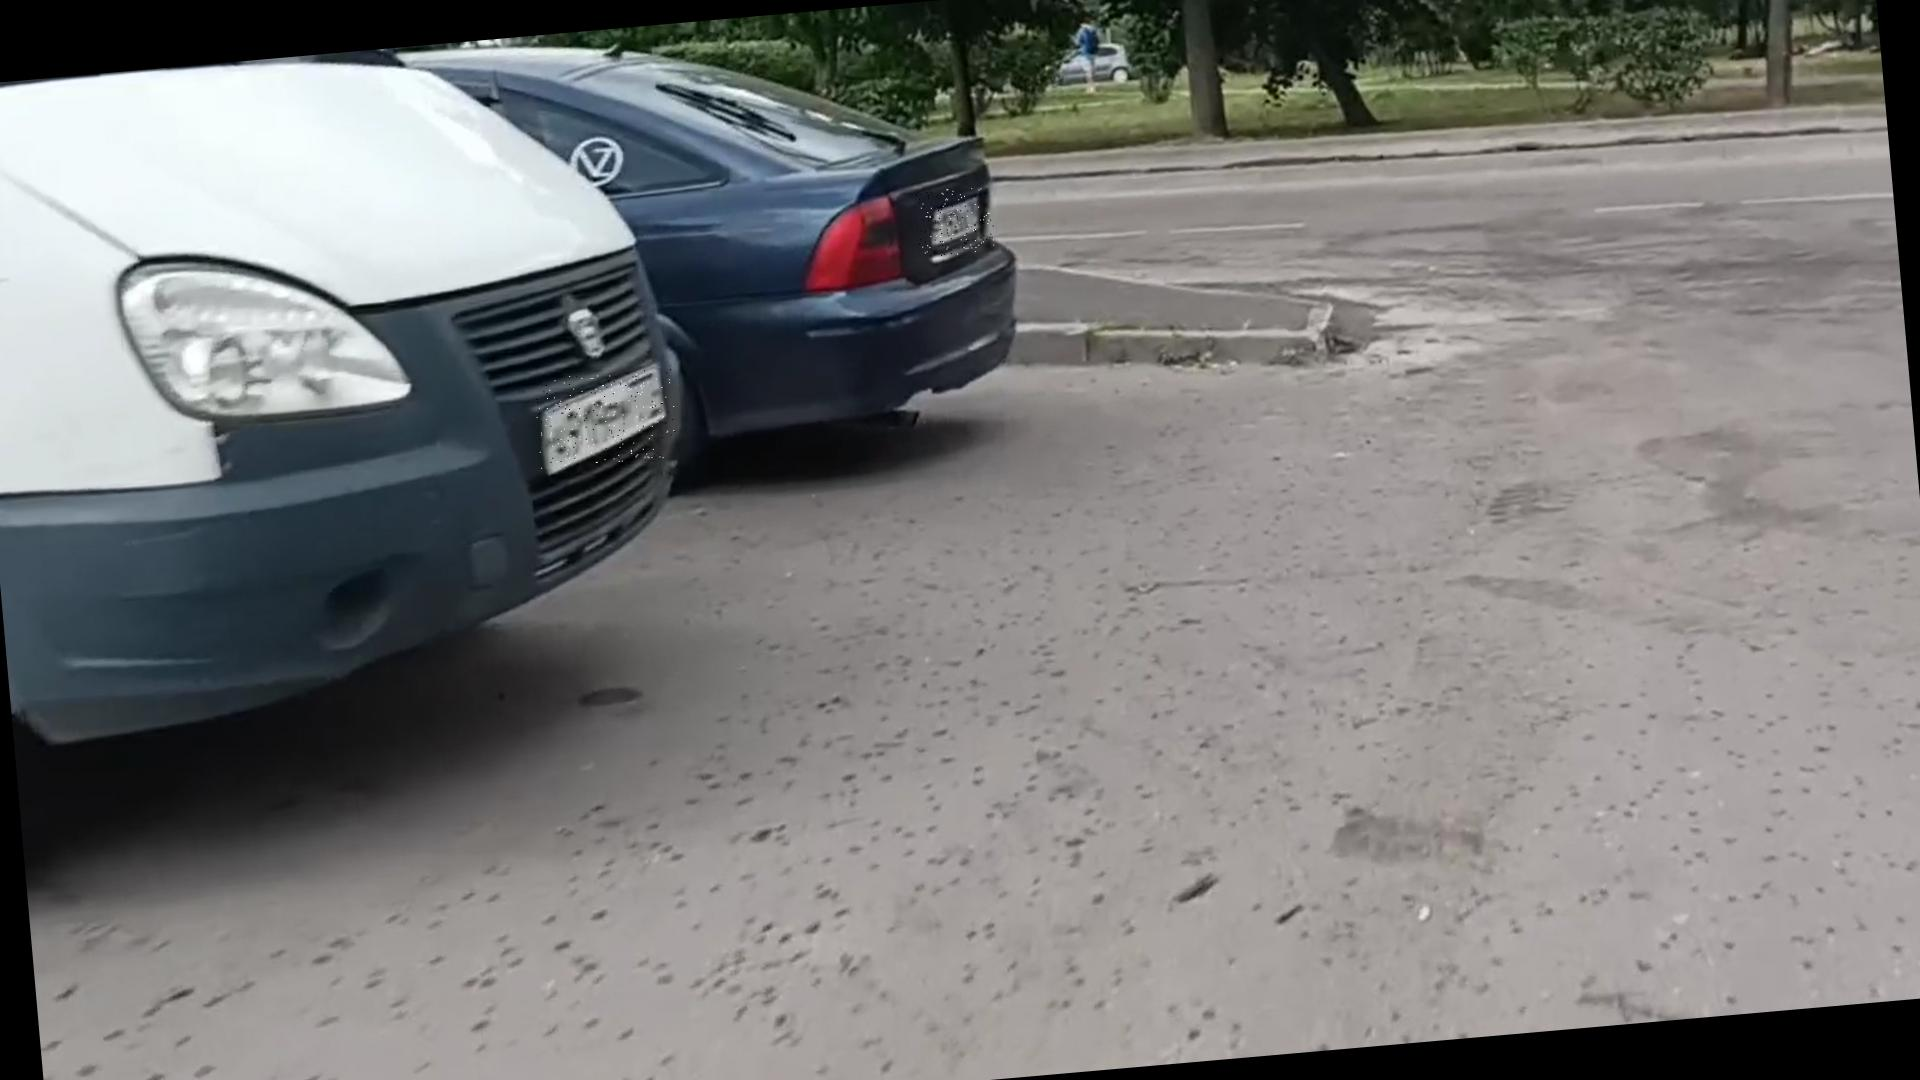plate: (536, 368, 681, 471), (916, 186, 998, 259)
